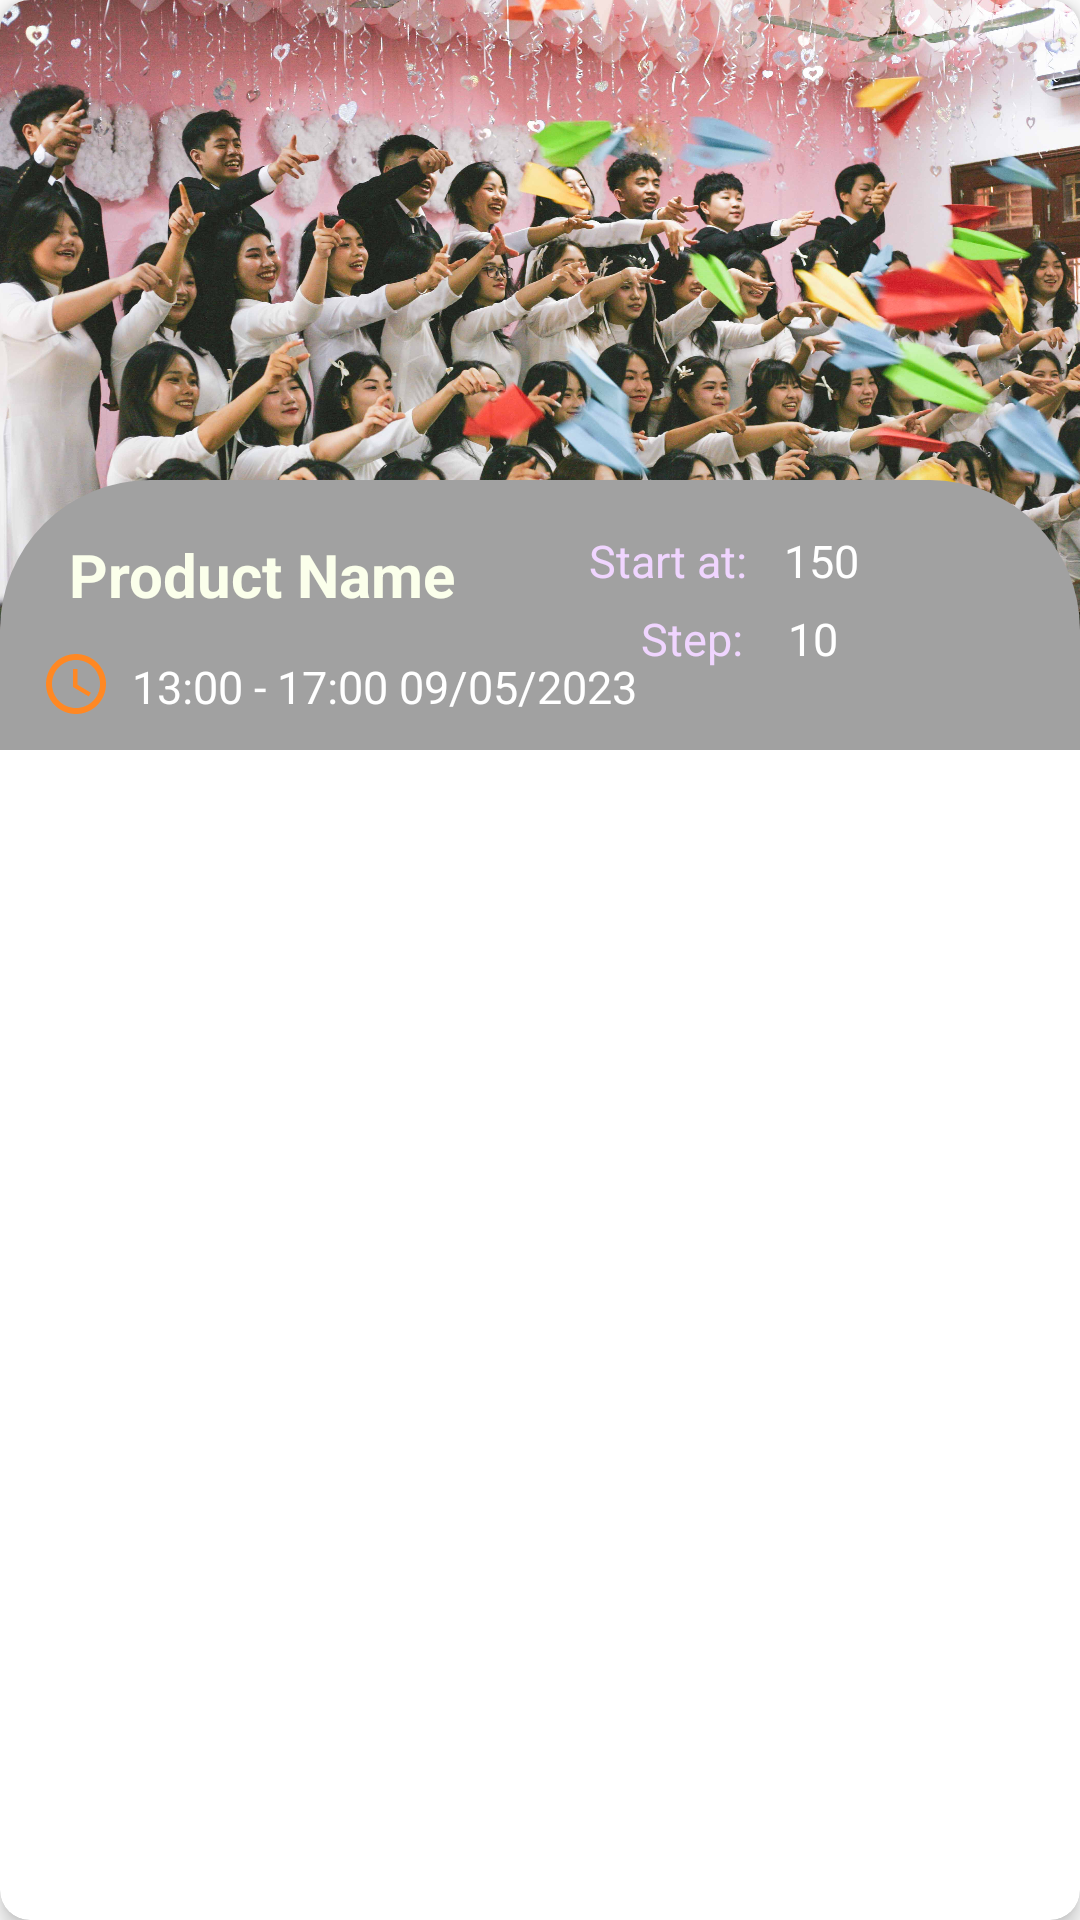

Icons on this 1080*1920 Android screen, each with the point to tap as point (x, y):
clock: point (76, 684)
